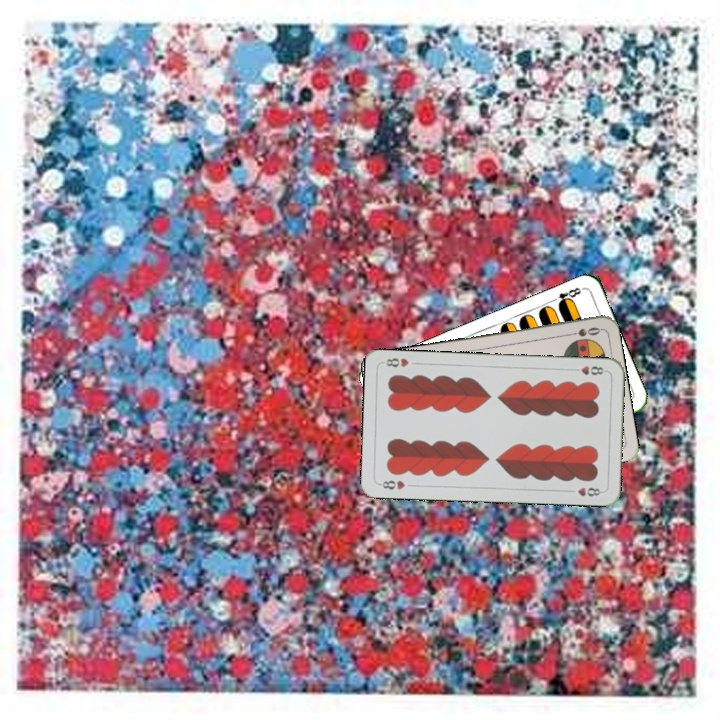E8: (547, 283, 586, 309)
H8: (568, 362, 609, 378), (375, 476, 407, 492)
SO: (562, 323, 603, 339)
